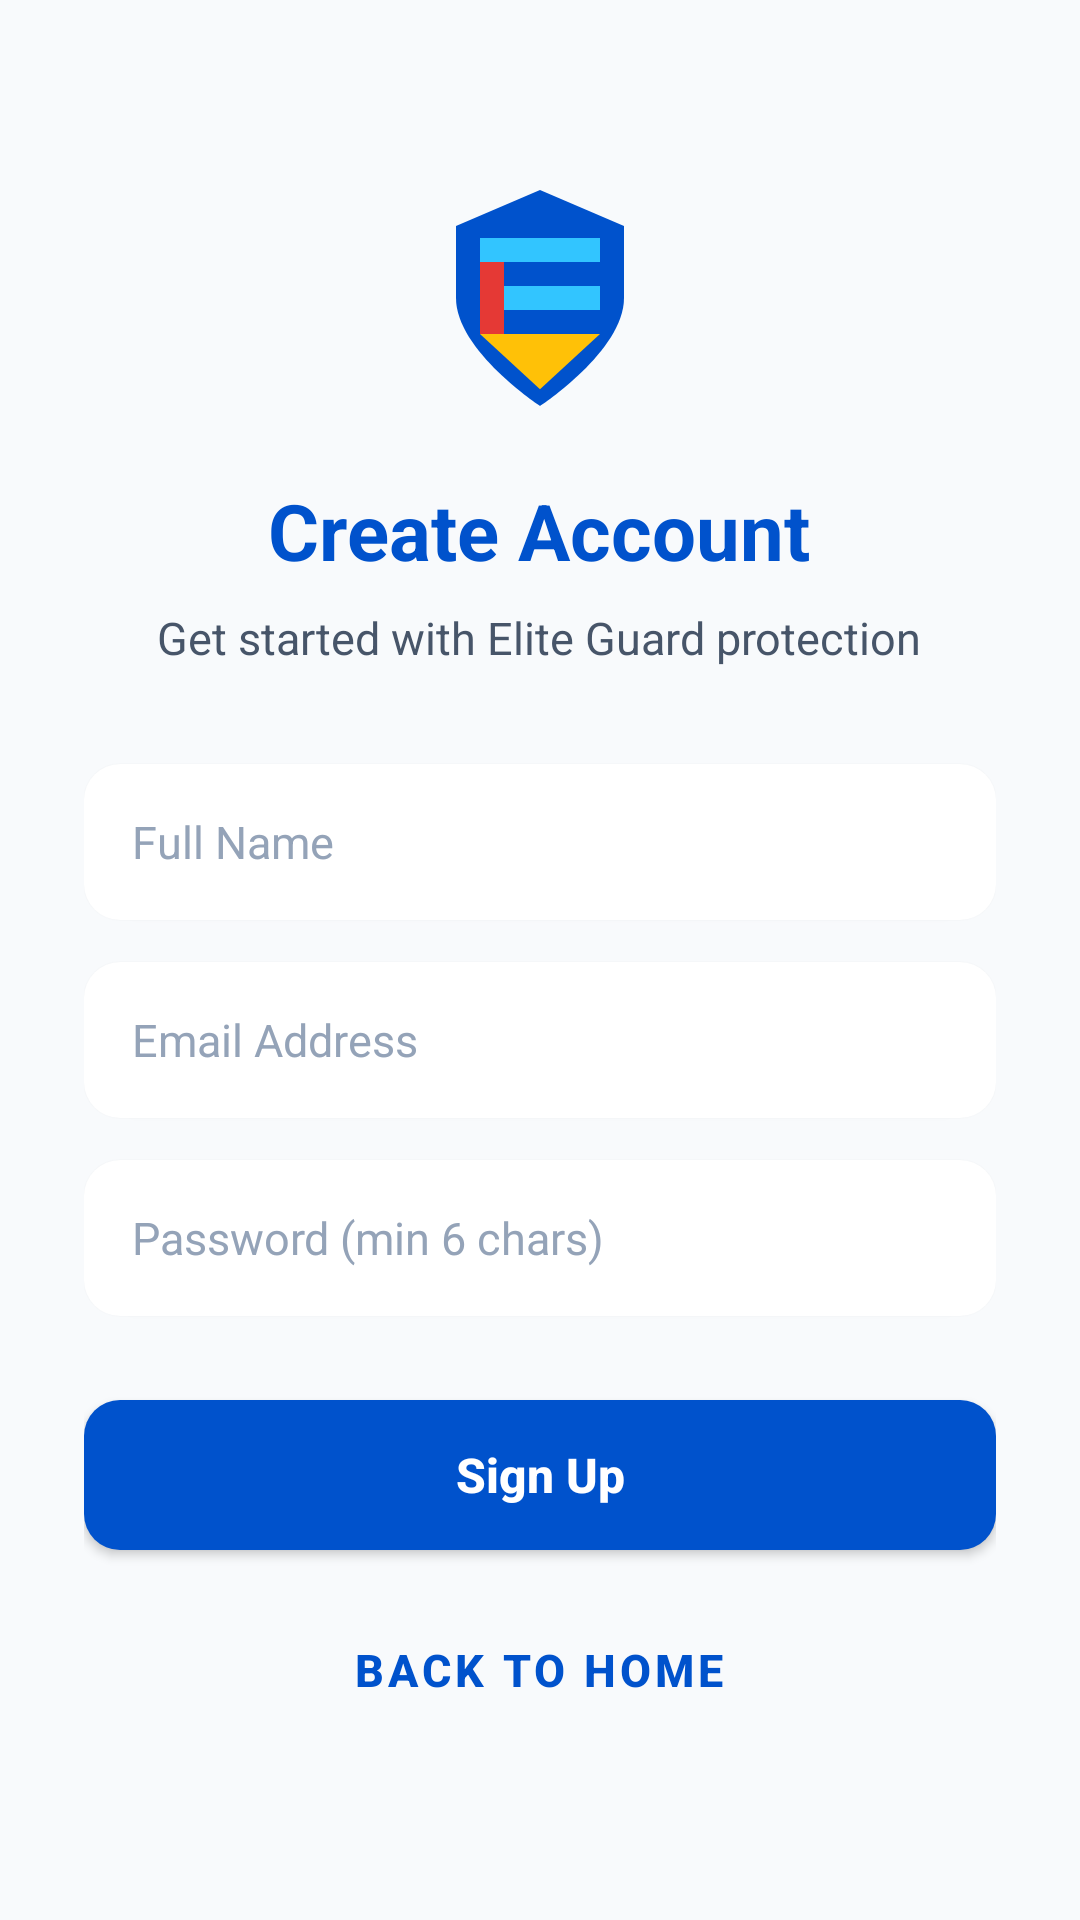

Icon bounding boxes for this 1080*1920 phone screenshot, format {"x1": x1, "y1": y1, "x2": x2, "y2": y2}:
custom shield: {"x1": 456, "y1": 190, "x2": 624, "y2": 406}
